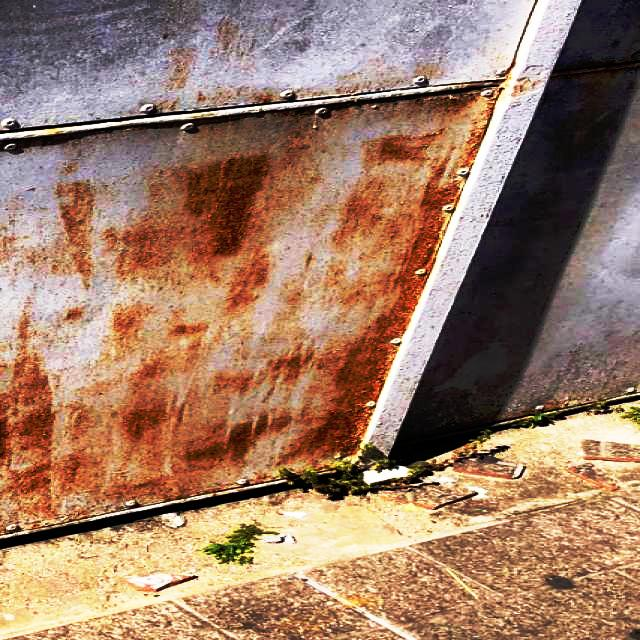Corrosion: (0, 62, 510, 540)
